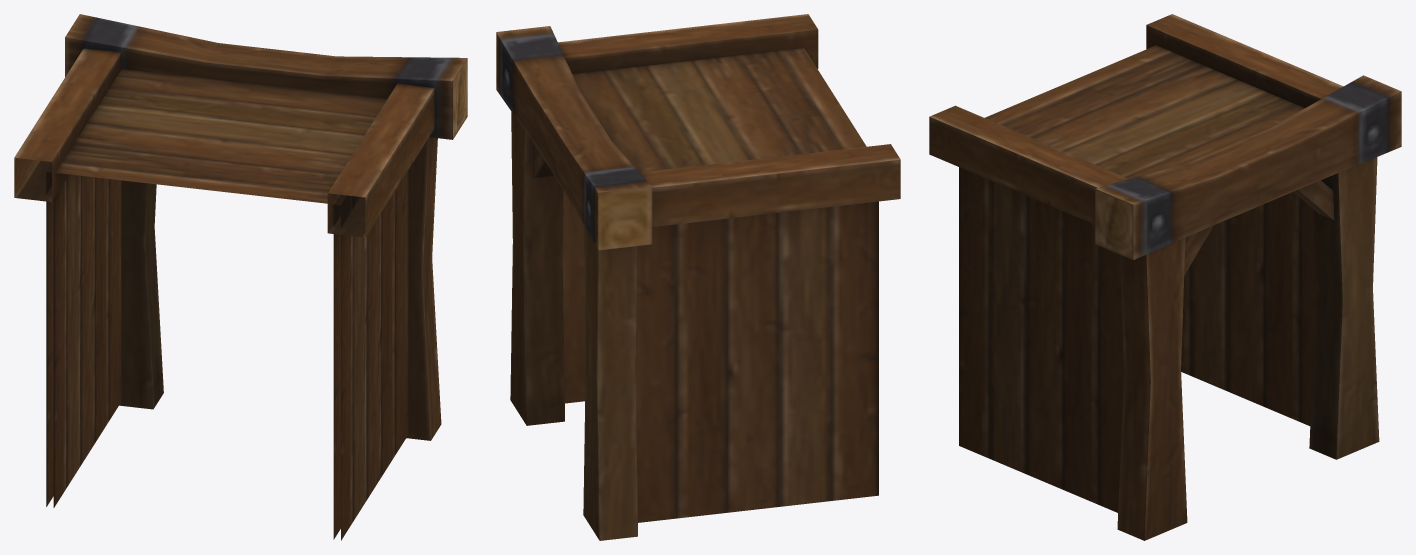
File: Wagon_gate1.fbx
3 views of the same model, side by side, from view 1: azimuth 30°, elevation 25°; view 2: azimuth 150°, elevation 25°; view 3: azimuth 270°, elevation 25° (orthographic). The views are drawn at different scales.
Parts seen in each view (by area): view 1: Wagon_gate1; view 2: Wagon_gate1; view 3: Wagon_gate1.
Boxes of the visible parts, x1,y1,x2,y2 form: Wagon_gate1: (14, 14, 467, 540); Wagon_gate1: (496, 14, 900, 540); Wagon_gate1: (929, 14, 1401, 540).
Size of the model in its own units: 341 by 276 by 341.
1 material, 1 textured.
